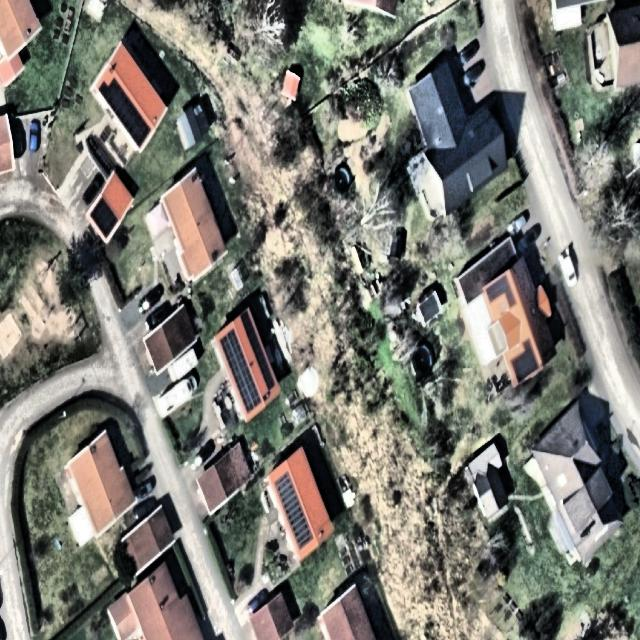roof_pv: (122, 87, 150, 150), (508, 337, 542, 384), (283, 503, 315, 552), (90, 198, 120, 240), (487, 274, 518, 310), (99, 73, 121, 123), (274, 472, 304, 504), (236, 382, 264, 416), (216, 328, 246, 356), (227, 357, 256, 384), (255, 360, 279, 390), (240, 312, 258, 338), (250, 336, 267, 361)
